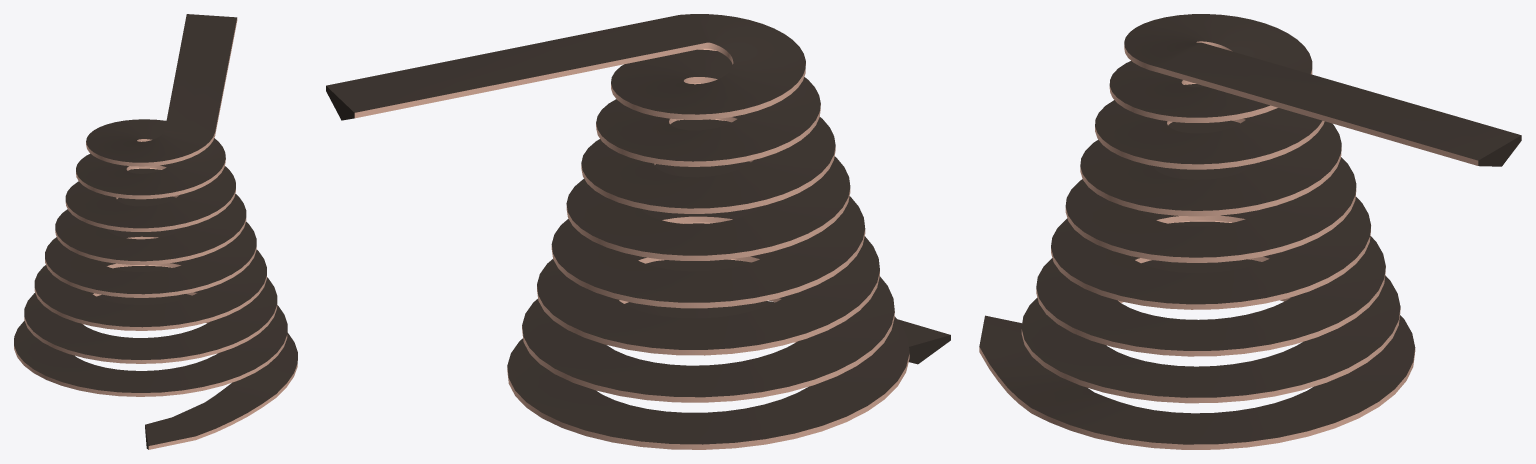
File: Muntanya_Rampa.fbx
3 renders of one model, left to right at view 1: azimuth 30°, elevation 25°; view 2: azimuth 150°, elevation 25°; view 3: azimuth 270°, elevation 25°, orthographic. The views are drawn at different scales.
Parts seen in each view (by area): view 1: Muntanya_Rampa; view 2: Muntanya_Rampa; view 3: Muntanya_Rampa.
Part boxes in pixels (x1,y1,x2,y2): Muntanya_Rampa: [14, 14, 297, 449]; Muntanya_Rampa: [326, 14, 950, 449]; Muntanya_Rampa: [979, 14, 1521, 449].
Size of the model in its own units: 59546 by 48312 by 66410.
